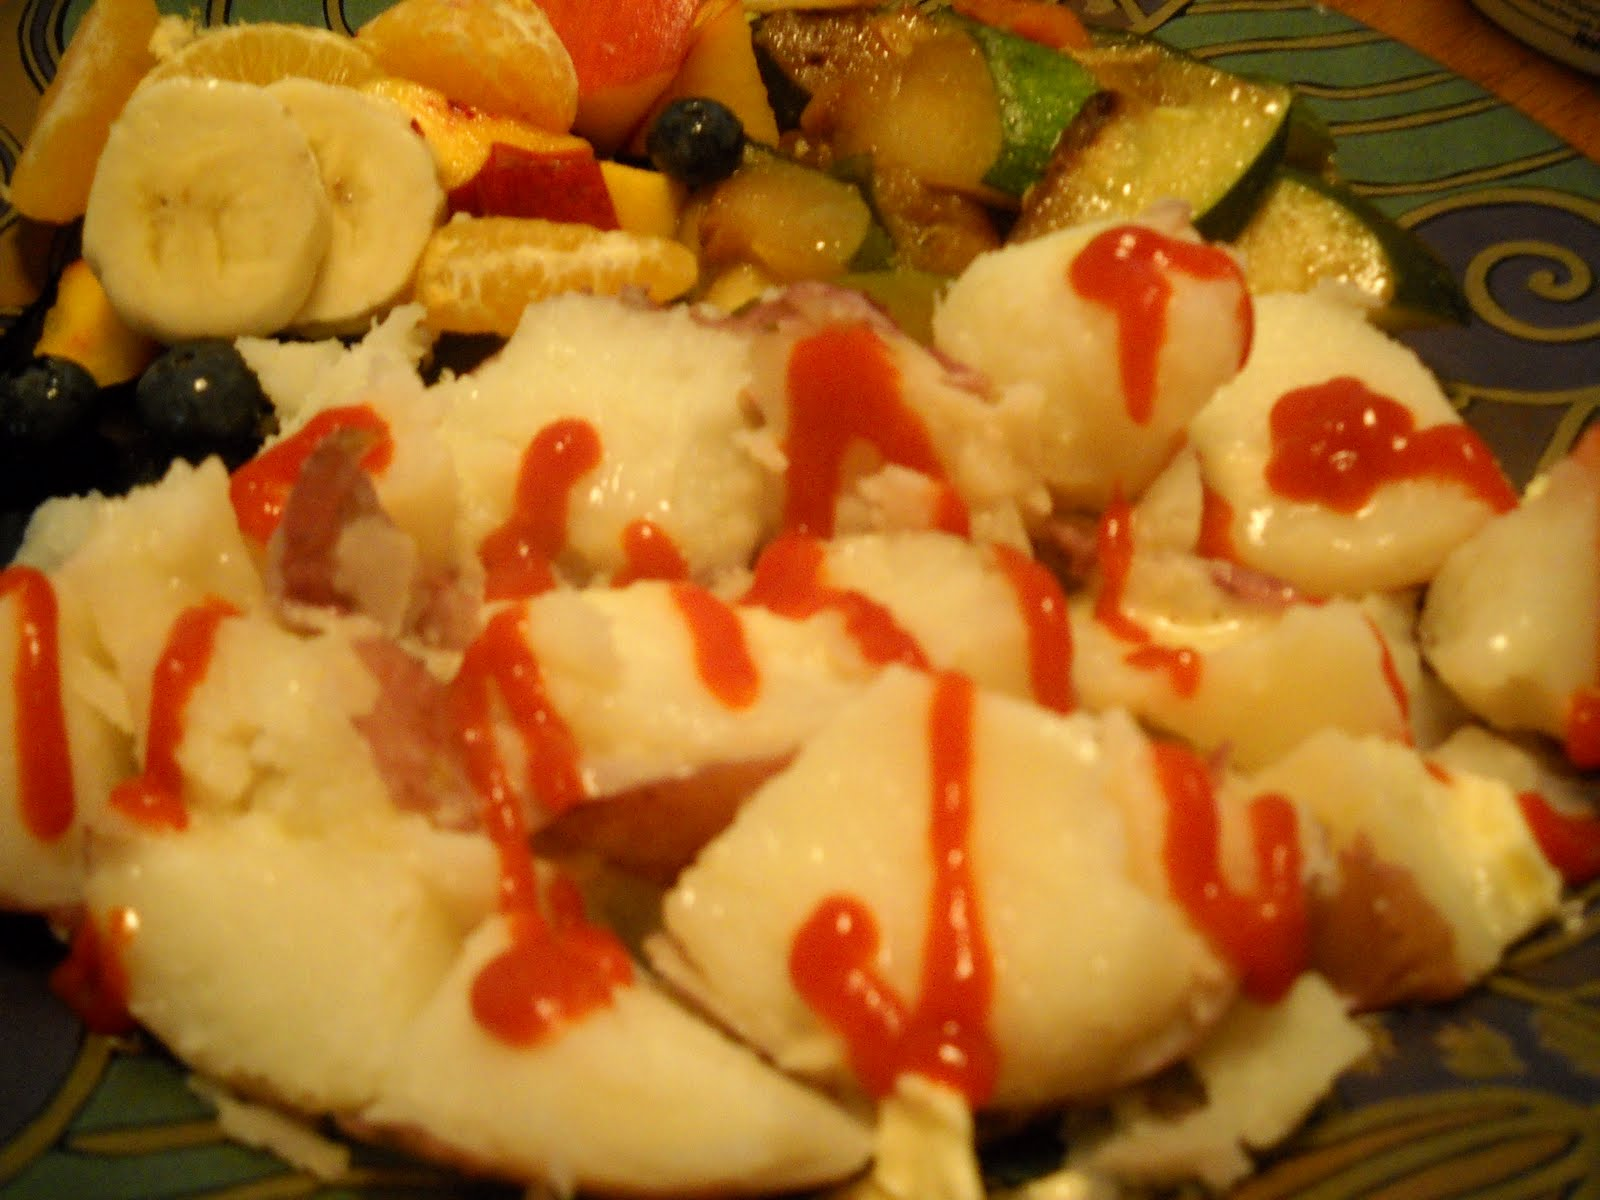boiled potatoes: (71, 323, 1495, 1137)
